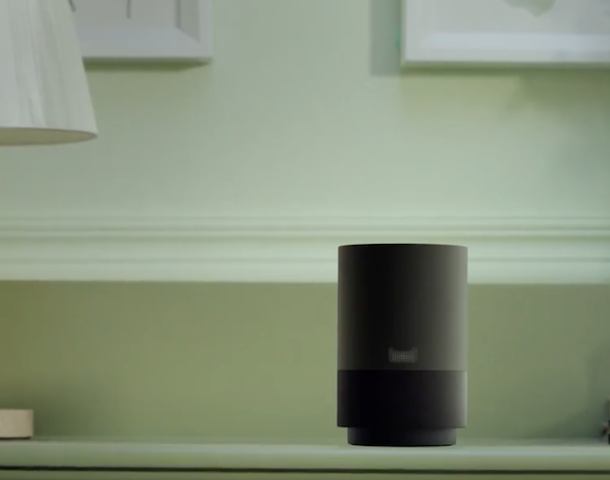audio: (321, 230, 477, 450)
